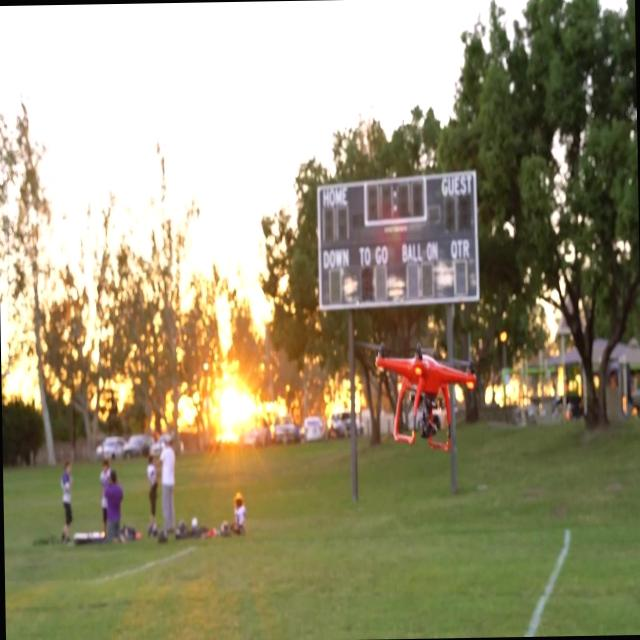drone: (357, 334, 482, 456)
